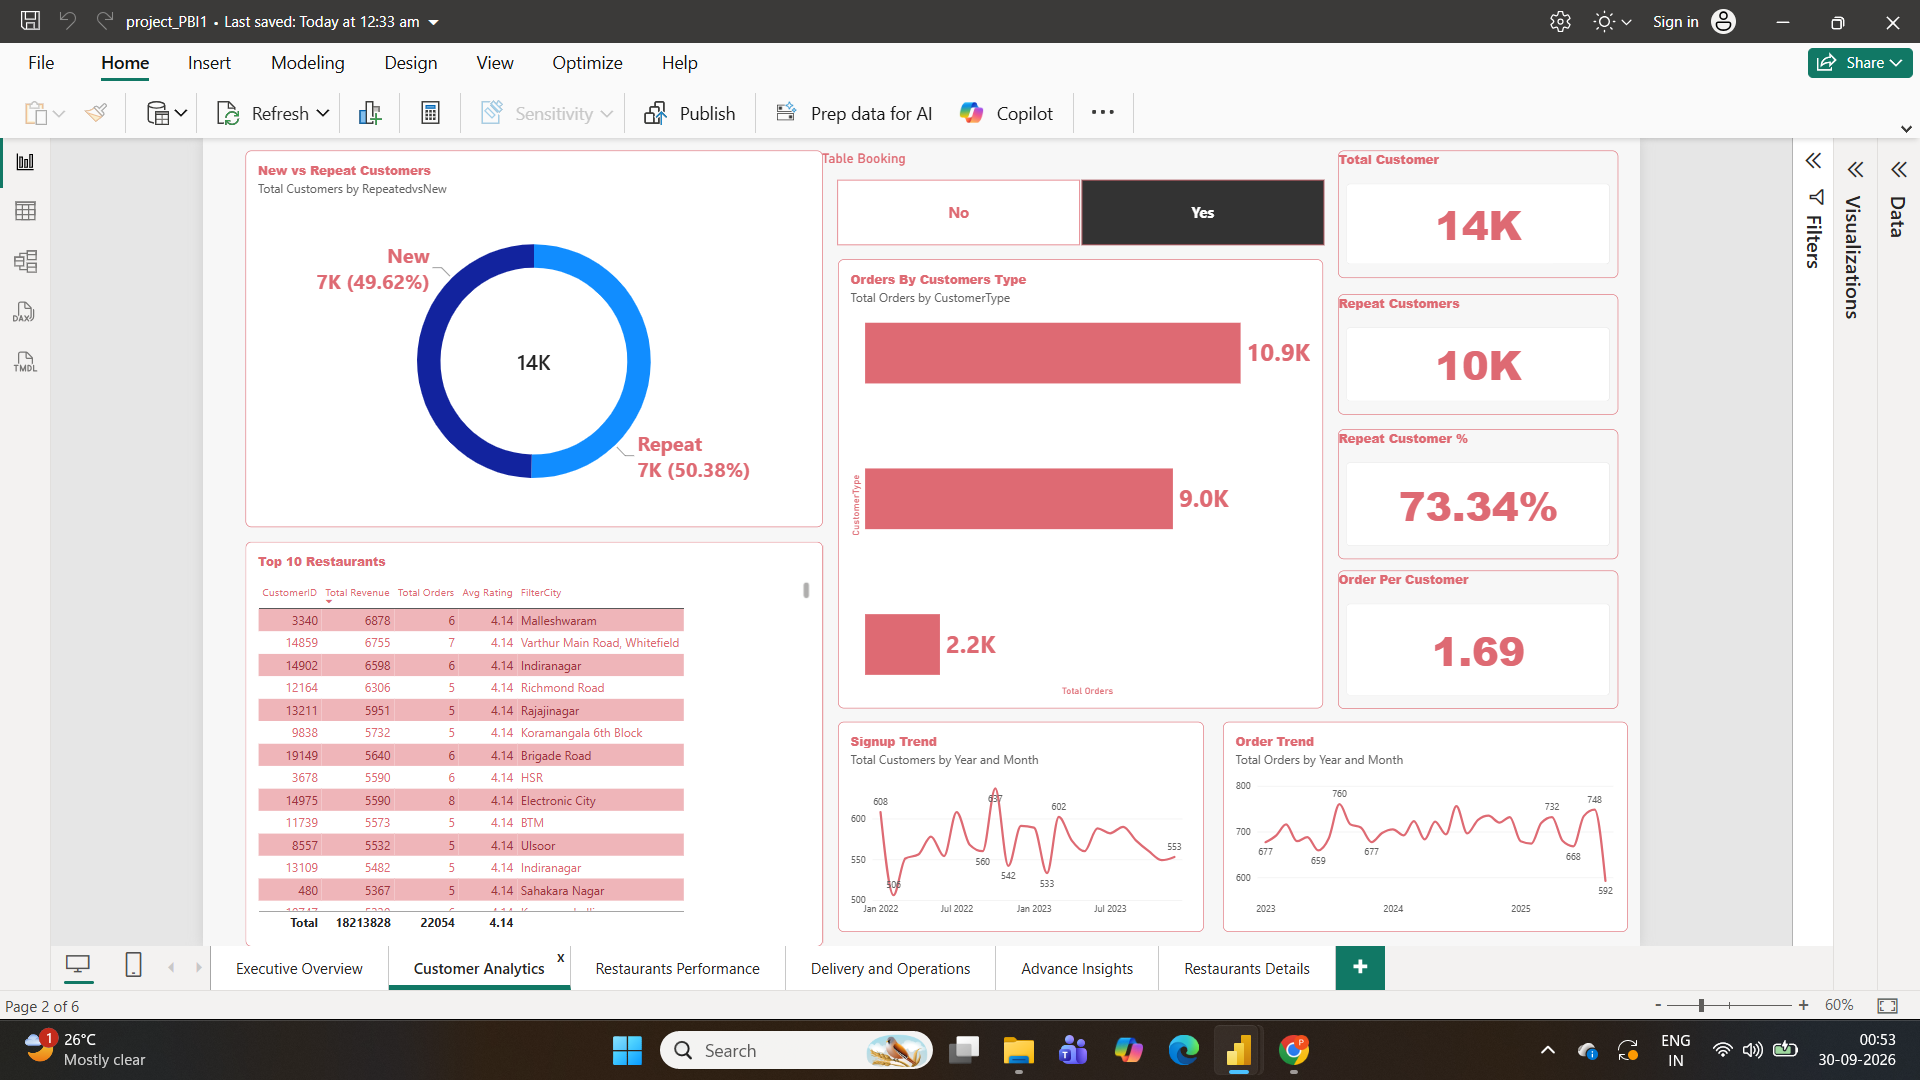

The dashboard page shown, as its layout file describes it:
{"tool":"powerbi","page":{"name":"Customer Analytics","canvas":[1920,1080],"ordinal":1},"visuals":[{"type":"cardVisual","title":"Total Customer","fields":{"Data":["Orders.Total Customers"]},"box":[1516.5,16.3,374.6,170.1],"z":0},{"type":"cardVisual","title":"Repeat Customers","fields":{"Data":["Orders.Repeat Customers"]},"box":[1516.5,208.1,374.6,161.1],"z":1000},{"type":"cardVisual","title":"Repeat Customer %","fields":{"Data":["Orders.Repeat Customers %"]},"box":[1516.5,389.1,374.6,173.7],"z":2000},{"type":"cardVisual","title":"Order Per Customer","fields":{"Data":["Orders.Orders Per  Customers"]},"box":[1516.5,577.3,374.6,184.6],"z":3000},{"type":"lineChart","title":"Signup Trend","fields":{"Category":["Customers.SignupDate.Variation.Date Hierarchy.Year","Customers.SignupDate.Variation.Date Hierarchy.Month"],"Y":["Orders.Total Customers"]},"box":[848.7,780,488.6,280.5],"z":4000},{"type":"lineChart","title":"Order Trend","fields":{"Category":["DateTable.Date.Variation.Date Hierarchy.Year","DateTable.Date.Variation.Date Hierarchy.Month"],"Y":["Orders.Total Orders"]},"box":[1362.7,780,541.1,280.5],"z":5000},{"type":"barChart","title":"Orders By Customers Type","fields":{"Category":["Customers.CustomerType"],"Y":["Orders.Total Orders"]},"box":[848,162,648,600],"z":6000},{"type":"donutChart","title":"New vs Repeat Customers","fields":{"Category":["Customers.RepeatedvsNew"],"Y":["Orders.Total Customers"]},"box":[56.1,16.3,770.9,503.1],"z":7000},{"type":"tableEx","title":"Top 10 Restaurants","fields":{"Values":["Orders.CustomerID","Orders.Total Revenue","Orders.Total Orders","Orders.Avg Rating","Customers.FilterCity"]},"box":[56.1,539.3,770.9,541.1],"z":8000},{"type":"slicer","title":"Table Booking","fields":{"Values":["Restaurants.Book_Table 2"]},"box":[826,16,690,128],"z":8001}]}

Visuals, with their boxes on the page's 1920x1080 design canvas (x1, y1, x2, y2). These are canvas units, not pixel positions in the 1920x1080 screenshot, which may show the page scaled, cropped or inside an application window:
"Total Customer" cardVisual: [1516,16,1891,186]
"Repeat Customers" cardVisual: [1516,208,1891,369]
"Repeat Customer %" cardVisual: [1516,389,1891,563]
"Order Per Customer" cardVisual: [1516,577,1891,762]
"Signup Trend" lineChart: [849,780,1337,1060]
"Order Trend" lineChart: [1363,780,1904,1060]
"Orders By Customers Type" barChart: [848,162,1496,762]
"New vs Repeat Customers" donutChart: [56,16,827,519]
"Top 10 Restaurants" tableEx: [56,539,827,1080]
"Table Booking" slicer: [826,16,1516,144]
